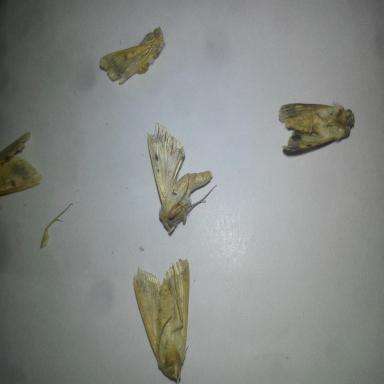abw: (144, 117, 218, 237), (131, 253, 195, 383), (276, 93, 358, 161), (96, 22, 168, 89), (0, 126, 45, 201)
